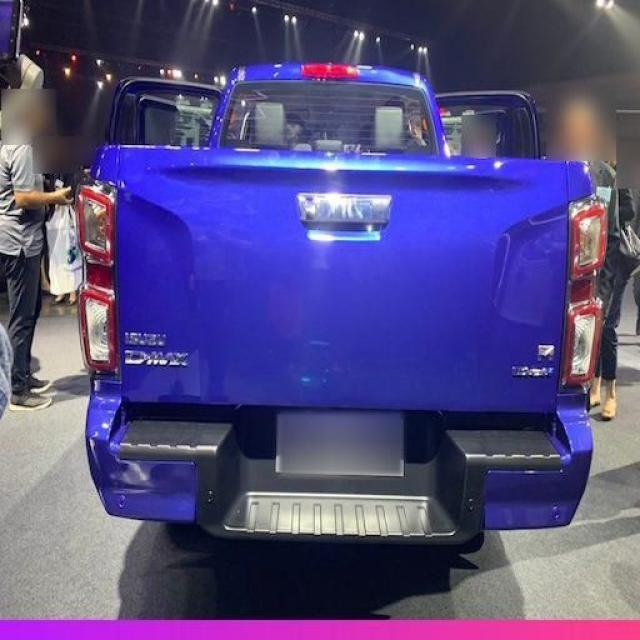back_bumper: (85, 379, 594, 553)
back_glass: (221, 80, 439, 154)
back_left_light: (75, 172, 123, 376)
back_right_light: (559, 190, 607, 393)
trunk: (116, 143, 569, 414)
